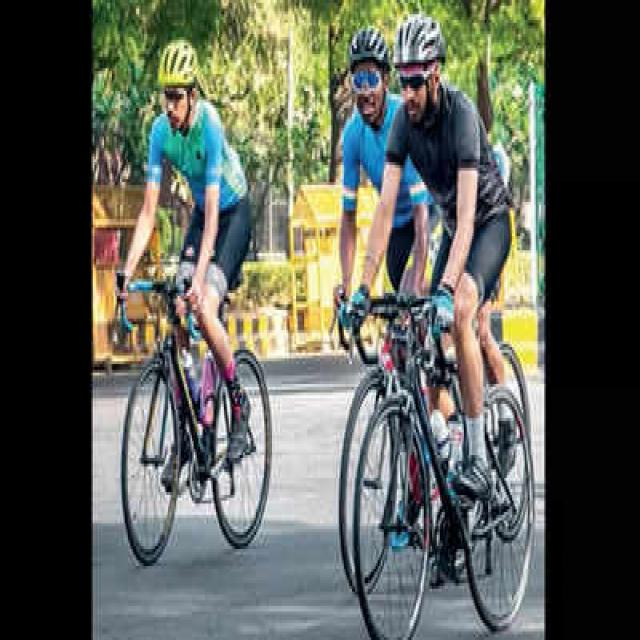bicycle: (345, 16, 534, 638), (115, 40, 271, 563), (332, 27, 399, 590)
